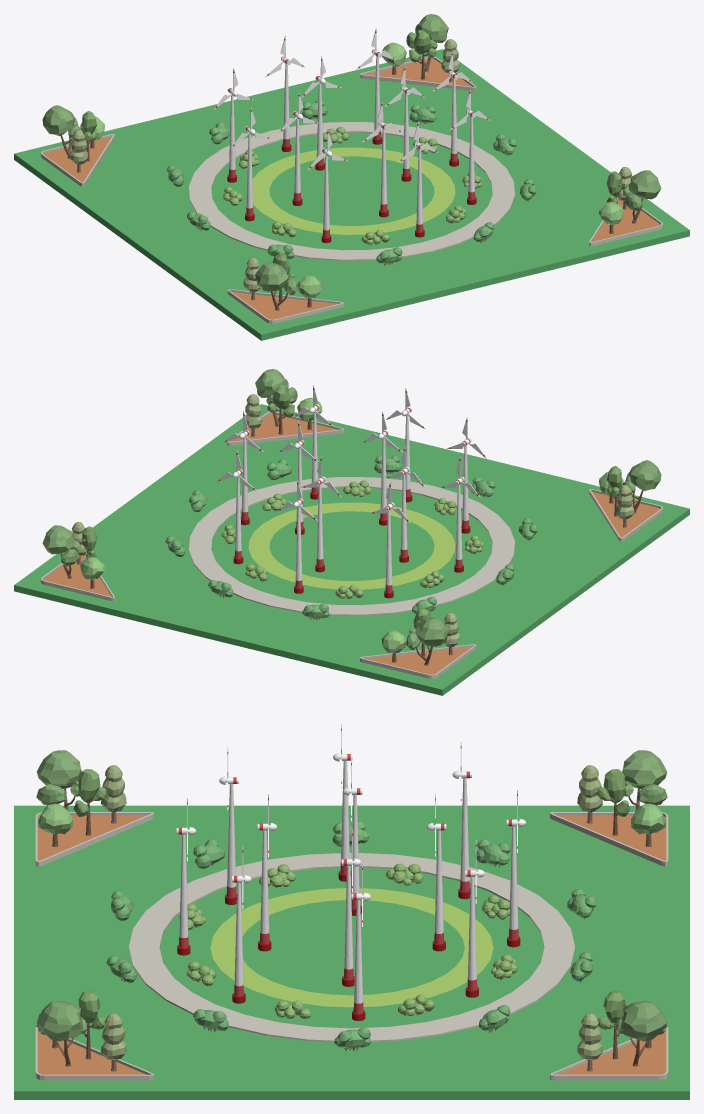
The model's file is D4_ENERGY_TOWERS.fbx.
The picture shows the model from 3 angles, top to bottom: view 1: azimuth 30°, elevation 25°; view 2: azimuth 150°, elevation 25°; view 3: azimuth 270°, elevation 25°; orthographic projection. The views are drawn at different scales.
Visible parts, largest first — view 1: Cube.046, Leaves_01.004, Cylinder.019, Cylinder.017, Cylinder.020, Bushes_bush_01.003, Cylinder.018; view 2: Cube.046, Leaves_01.004, Cylinder.019, Cylinder.017, Cylinder.020, Bushes_bush_01.003, Cylinder.018; view 3: Cube.046, Leaves_01.004, Cylinder.019, Cylinder.017, Cylinder.020, Bushes_bush_01.003, Cylinder.018, Bushes_bush_03.003.
Boxes of the visible parts, x1,y1,x2,y2 form: Cube.046: (14, 49, 689, 340); Leaves_01.004: (40, 14, 663, 323); Cylinder.019: (189, 122, 514, 260); Cylinder.017: (213, 28, 489, 243); Cylinder.020: (252, 147, 455, 234); Bushes_bush_01.003: (166, 100, 537, 265); Cylinder.018: (279, 56, 424, 217); Cube.046: (14, 404, 689, 695); Leaves_01.004: (40, 369, 663, 678); Cylinder.019: (189, 477, 514, 615); Cylinder.017: (217, 385, 486, 598); Cylinder.020: (248, 502, 455, 589); Bushes_bush_01.003: (165, 455, 538, 620); Cylinder.018: (278, 411, 425, 572); Cube.046: (14, 805, 689, 1099); Leaves_01.004: (35, 750, 668, 1080); Cylinder.019: (128, 852, 575, 1042); Cylinder.017: (176, 724, 526, 1020); Cylinder.020: (210, 888, 493, 1007); Bushes_bush_01.003: (106, 821, 597, 1050); Cylinder.018: (257, 758, 446, 986); Bushes_bush_03.003: (386, 863, 422, 885).
Bounding box in the file's own units: 4000 × 1065 × 4000.
13 materials, 1 textured.
